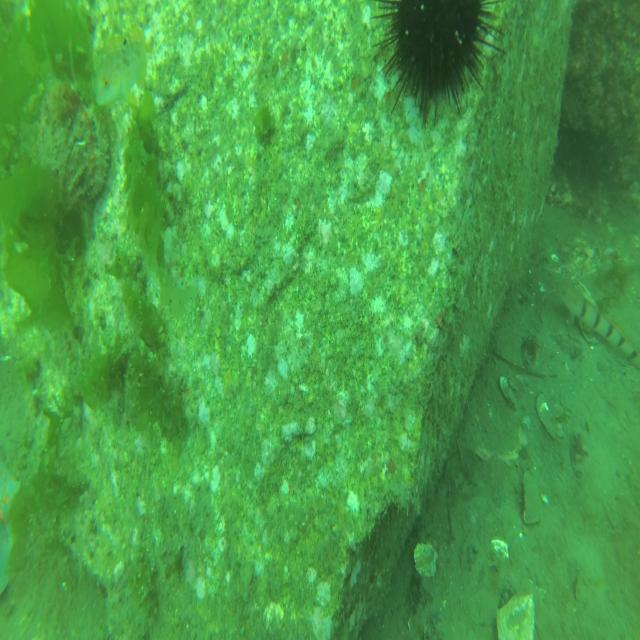echinus: (369, 0, 505, 131)
starfish: (0, 463, 21, 597)
